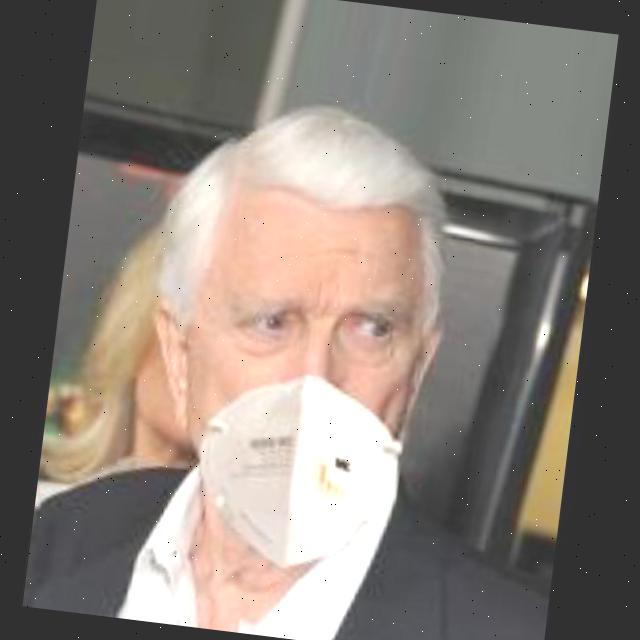suspicion: (104, 134, 496, 566)
